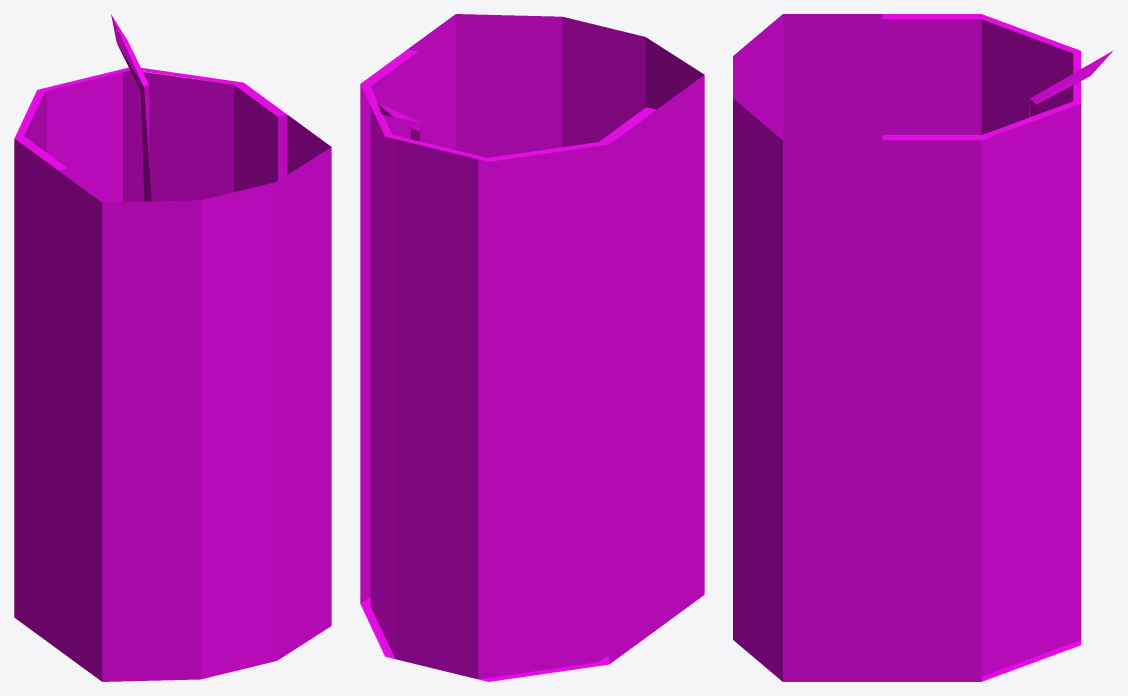
Rendered from cave tubetrapa rope.obj.
The picture shows the model from 3 angles, left to right: view 1: azimuth 30°, elevation 25°; view 2: azimuth 150°, elevation 25°; view 3: azimuth 270°, elevation 25°; orthographic projection. The views are drawn at different scales.
Parts seen in each view (by area): view 1: cave tubetrapa rope_back; view 2: cave tubetrapa rope_back; view 3: cave tubetrapa rope_back.
Part boxes in pixels (<box>): cave tubetrapa rope_back: <box>14,14,331,681</box>; cave tubetrapa rope_back: <box>360,14,704,681</box>; cave tubetrapa rope_back: <box>733,14,1113,681</box>.
Size of the model in its own units: 3.84 by 8.37 by 4.89.
